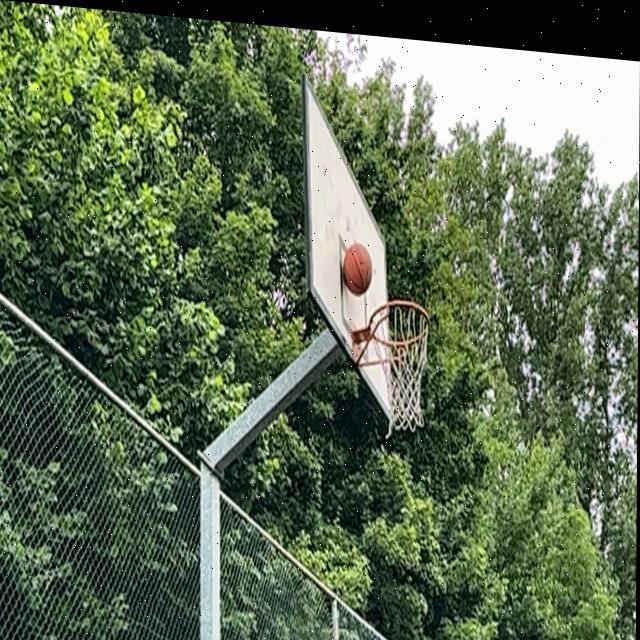rebound_hit: (338, 240, 371, 297)
